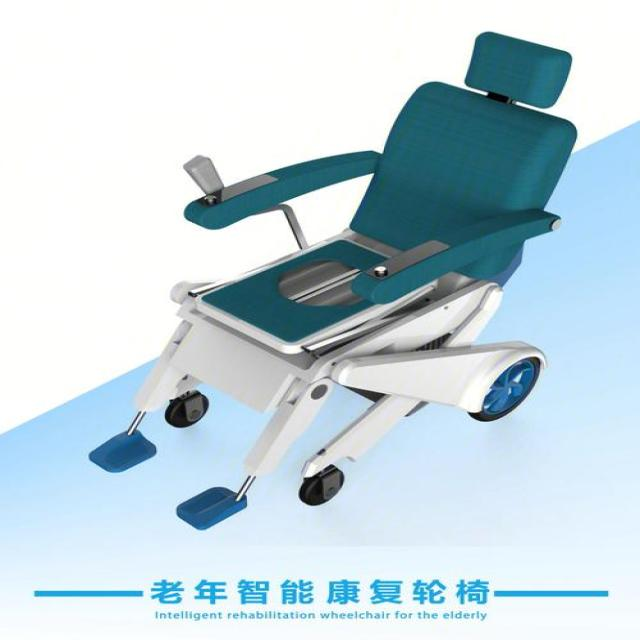wheelchairs: (81, 23, 586, 541)
